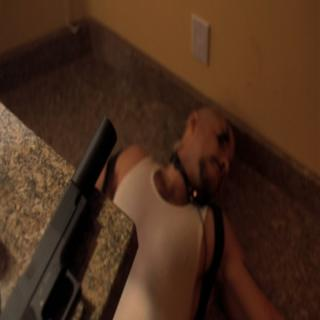gun: (5, 118, 125, 318)
